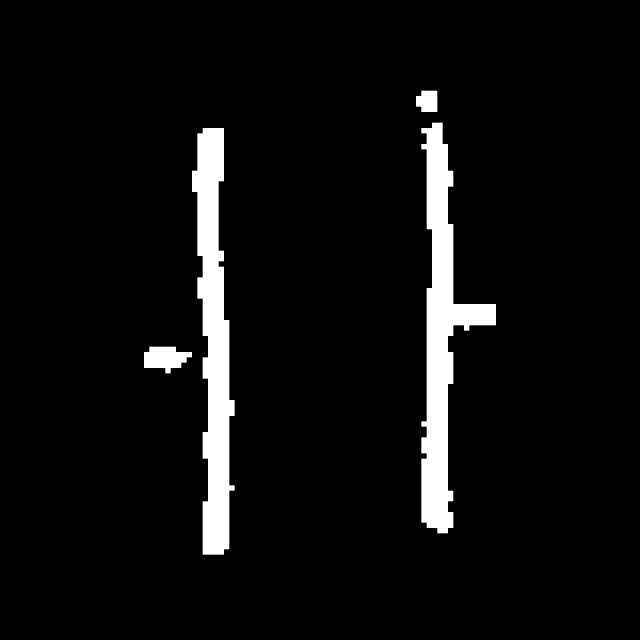capacitor: (184, 88, 466, 572)
